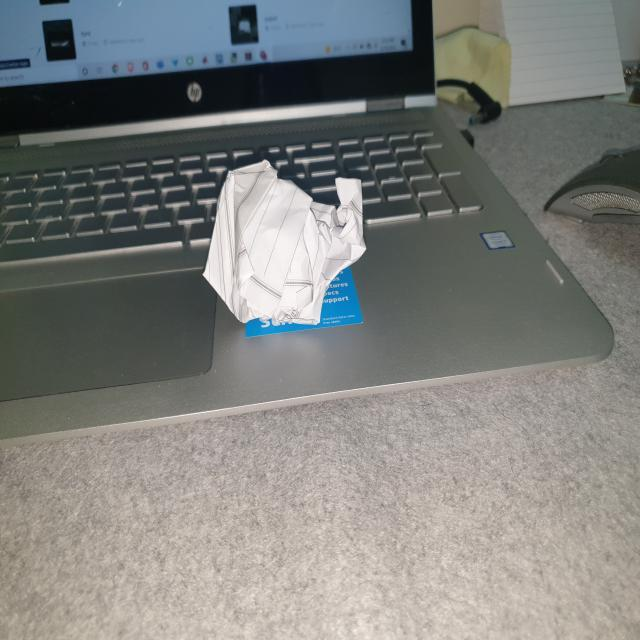Paper: (205, 164, 365, 334)
